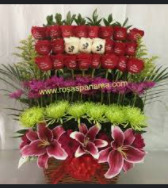RedRose: (115, 27, 130, 42), (38, 56, 52, 72)
